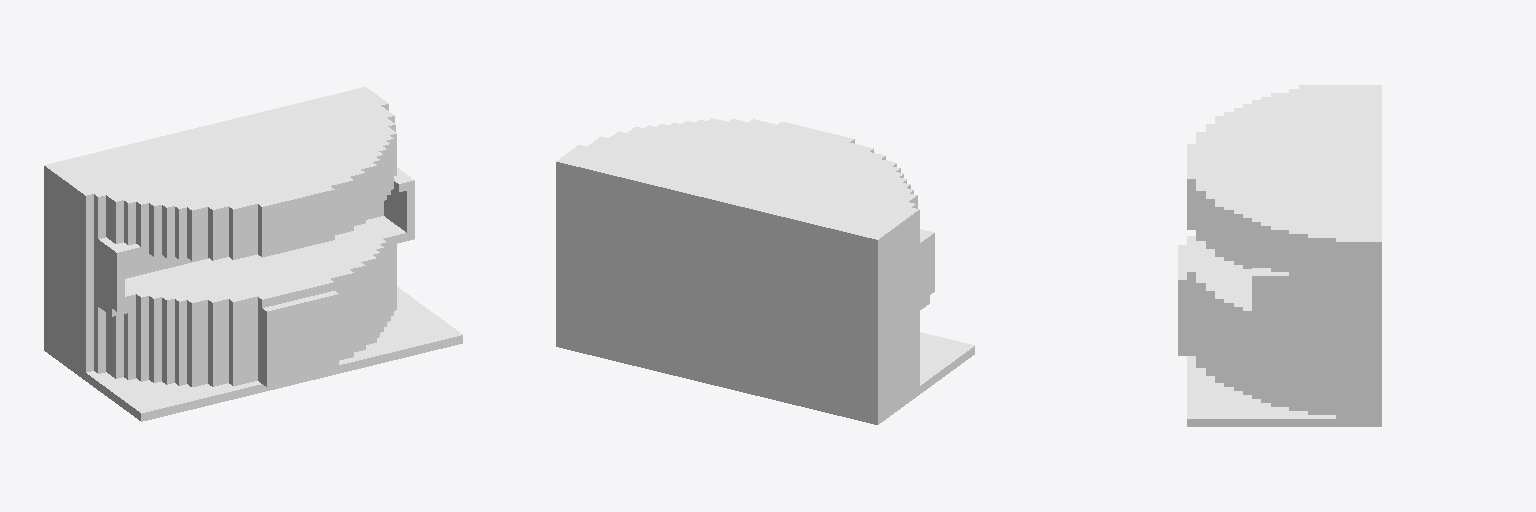
File: bunker-0.obj
3 renders of one model, left to right at view 1: azimuth 30°, elevation 25°; view 2: azimuth 150°, elevation 25°; view 3: azimuth 270°, elevation 25°, orthographic.
Visible parts, largest first — view 1: bunker-0; view 2: bunker-0; view 3: bunker-0.
Part boxes in pixels (x1,y1,x2,y2): bunker-0: (44, 87, 462, 421); bunker-0: (556, 118, 974, 424); bunker-0: (1178, 85, 1381, 426).
Bounding box in the file's own units: 40 × 22 × 22.